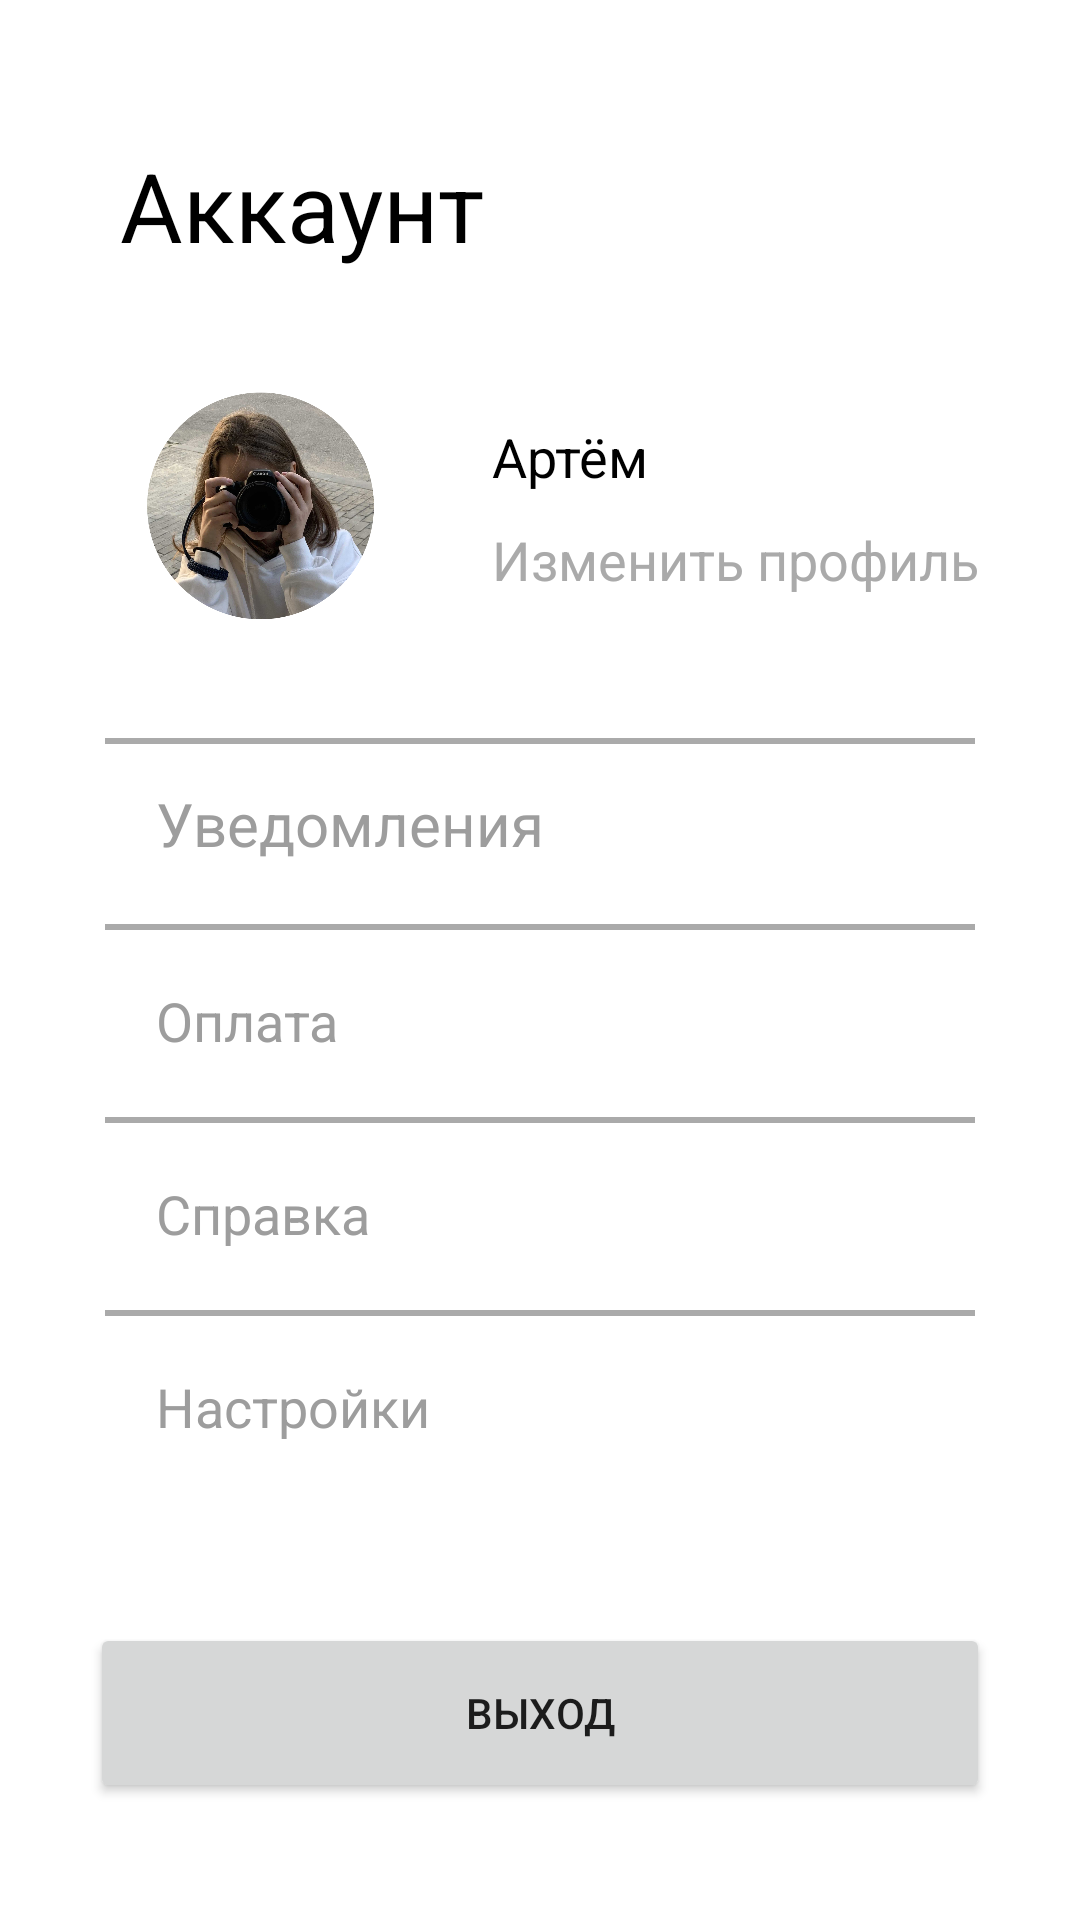

Icon click points for this 1080*1920 phone screenshot, format [x,y]:
Profile pic: [260,505]
